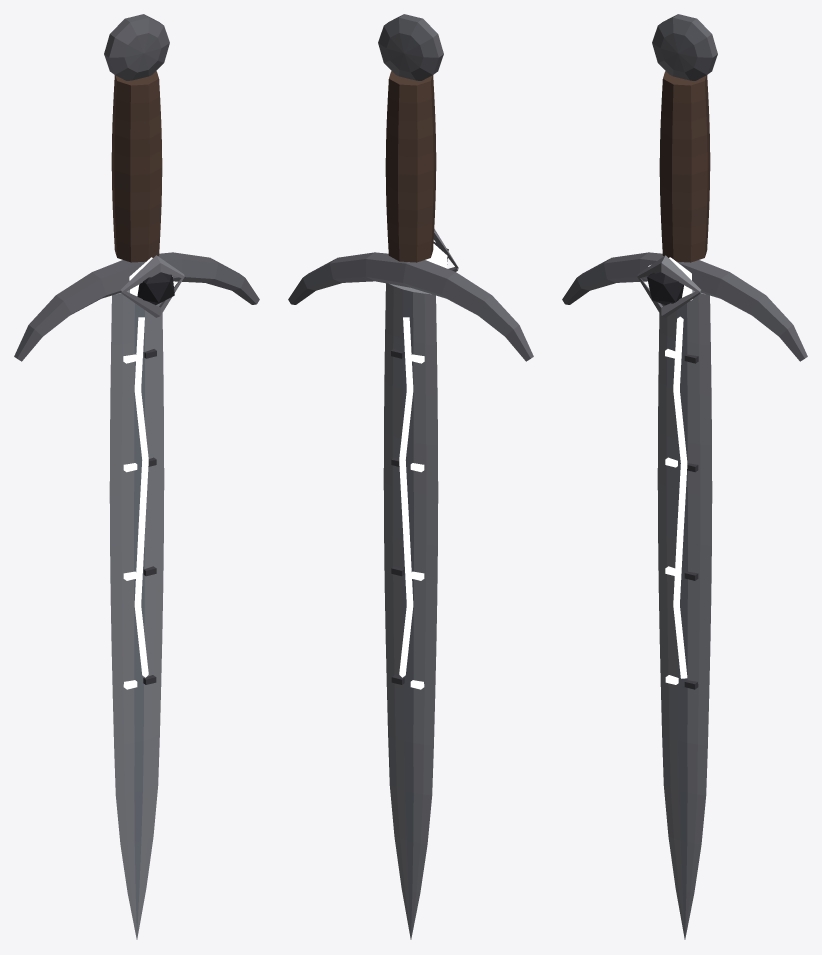
Rendered from blade-grave-blade.glb.
The picture shows the model from 3 angles, left to right: view 1: azimuth 30°, elevation 25°; view 2: azimuth 150°, elevation 25°; view 3: azimuth 330°, elevation 25°; orthographic projection.
Parts seen in each view (by area): view 1: blade-grave-blade, pulse_vein, blink_eye; view 2: blade-grave-blade, pulse_vein, blink_eye; view 3: blade-grave-blade, pulse_vein, blink_eye.
Boxes of the visible parts, box(x1,y1,x2,y2) form: blade-grave-blade: box(14, 14, 259, 939); pulse_vein: box(134, 317, 148, 677); blink_eye: box(121, 255, 184, 317); blade-grave-blade: box(288, 14, 533, 939); pulse_vein: box(399, 317, 413, 677); blink_eye: box(425, 229, 458, 271); blade-grave-blade: box(562, 14, 807, 939); pulse_vein: box(673, 316, 687, 678); blink_eye: box(637, 255, 700, 317).
Size of the model in its own units: 0.3302 by 1.2 by 0.095.
